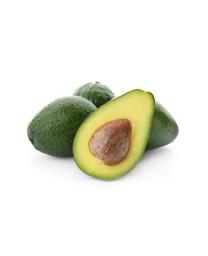avocado: (73, 89, 156, 181), (28, 96, 100, 159)
